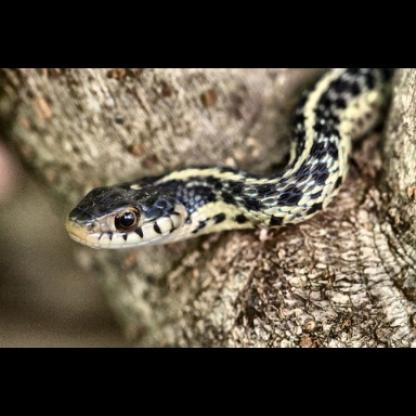Snake: (55, 69, 408, 285)
